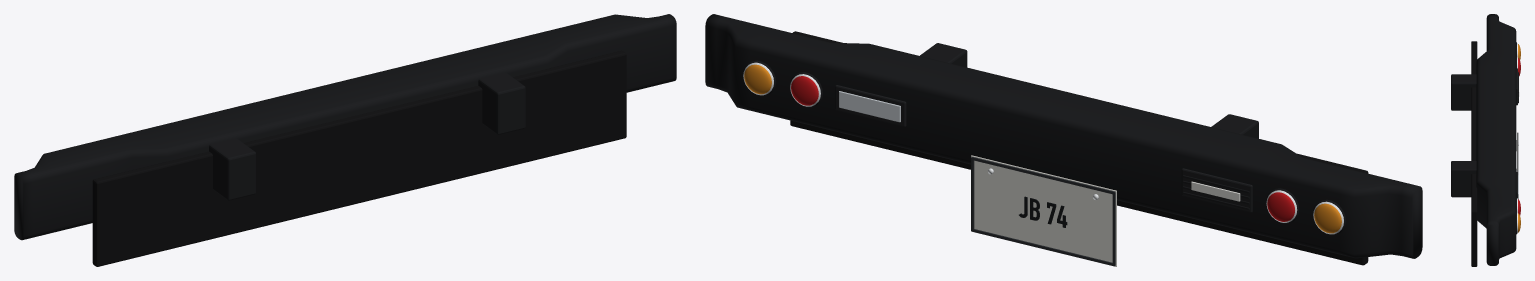
File: rearBumper_urnieta_1970_rear.glb
The picture shows the model from 3 angles, left to right: view 1: azimuth 30°, elevation 25°; view 2: azimuth 150°, elevation 25°; view 3: azimuth 270°, elevation 25°; orthographic projection. The views are drawn at different scales.
Visible parts, largest first — view 1: valance.040, body.024, mount1.040, mount-1.040; view 2: body.024, plate.047, valance.040, vent.001, piaaLens, piaa, mount1.040, mount-1.040, lampDome-10.002, lampDome-11.002, lampDome11.002, lampDome10.002 (+4 smaller); view 3: body.024, valance.040, mount-1.040, mount1.040, plateRim45_0, vent.001.
Part boxes in pixels (<box>): valance.040: <box>92,50,626,266</box>; body.024: <box>14,14,676,240</box>; mount1.040: <box>478,72,525,134</box>; mount-1.040: <box>209,138,255,200</box>; body.024: <box>705,14,1422,258</box>; plate.047: <box>971,155,1116,266</box>; valance.040: <box>790,31,1368,265</box>; vent.001: <box>1181,168,1252,212</box>; piaaLens: <box>839,91,900,122</box>; piaa: <box>835,85,906,126</box>; mount1.040: <box>920,43,967,67</box>; mount-1.040: <box>1211,114,1258,138</box>; lampDome-10.002: <box>1314,203,1340,232</box>; lampDome-11.002: <box>1267,192,1294,221</box>; lampDome11.002: <box>791,76,817,105</box>; lampDome10.002: <box>744,64,770,93</box>; body.024: <box>1476,14,1516,265</box>; valance.040: <box>1471,41,1477,266</box>; mount-1.040: <box>1451,74,1476,110</box>; mount1.040: <box>1451,161,1476,197</box>; plateRim45_0: <box>1517,132,1518,174</box>; vent.001: <box>1516,68,1517,105</box>.
Bounding box in the file's own units: 1.6 × 0.2875 × 0.2253.
